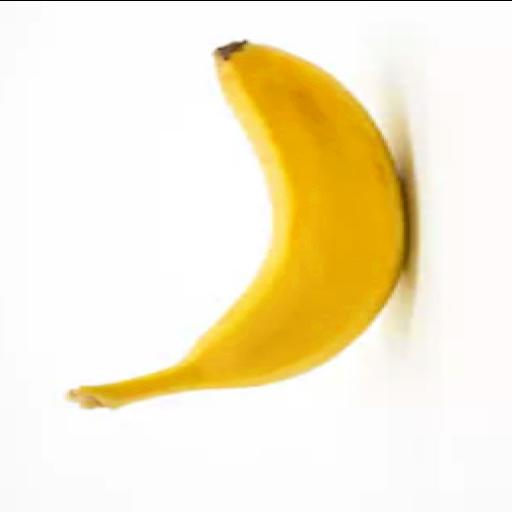banana: (69, 42, 405, 408)
